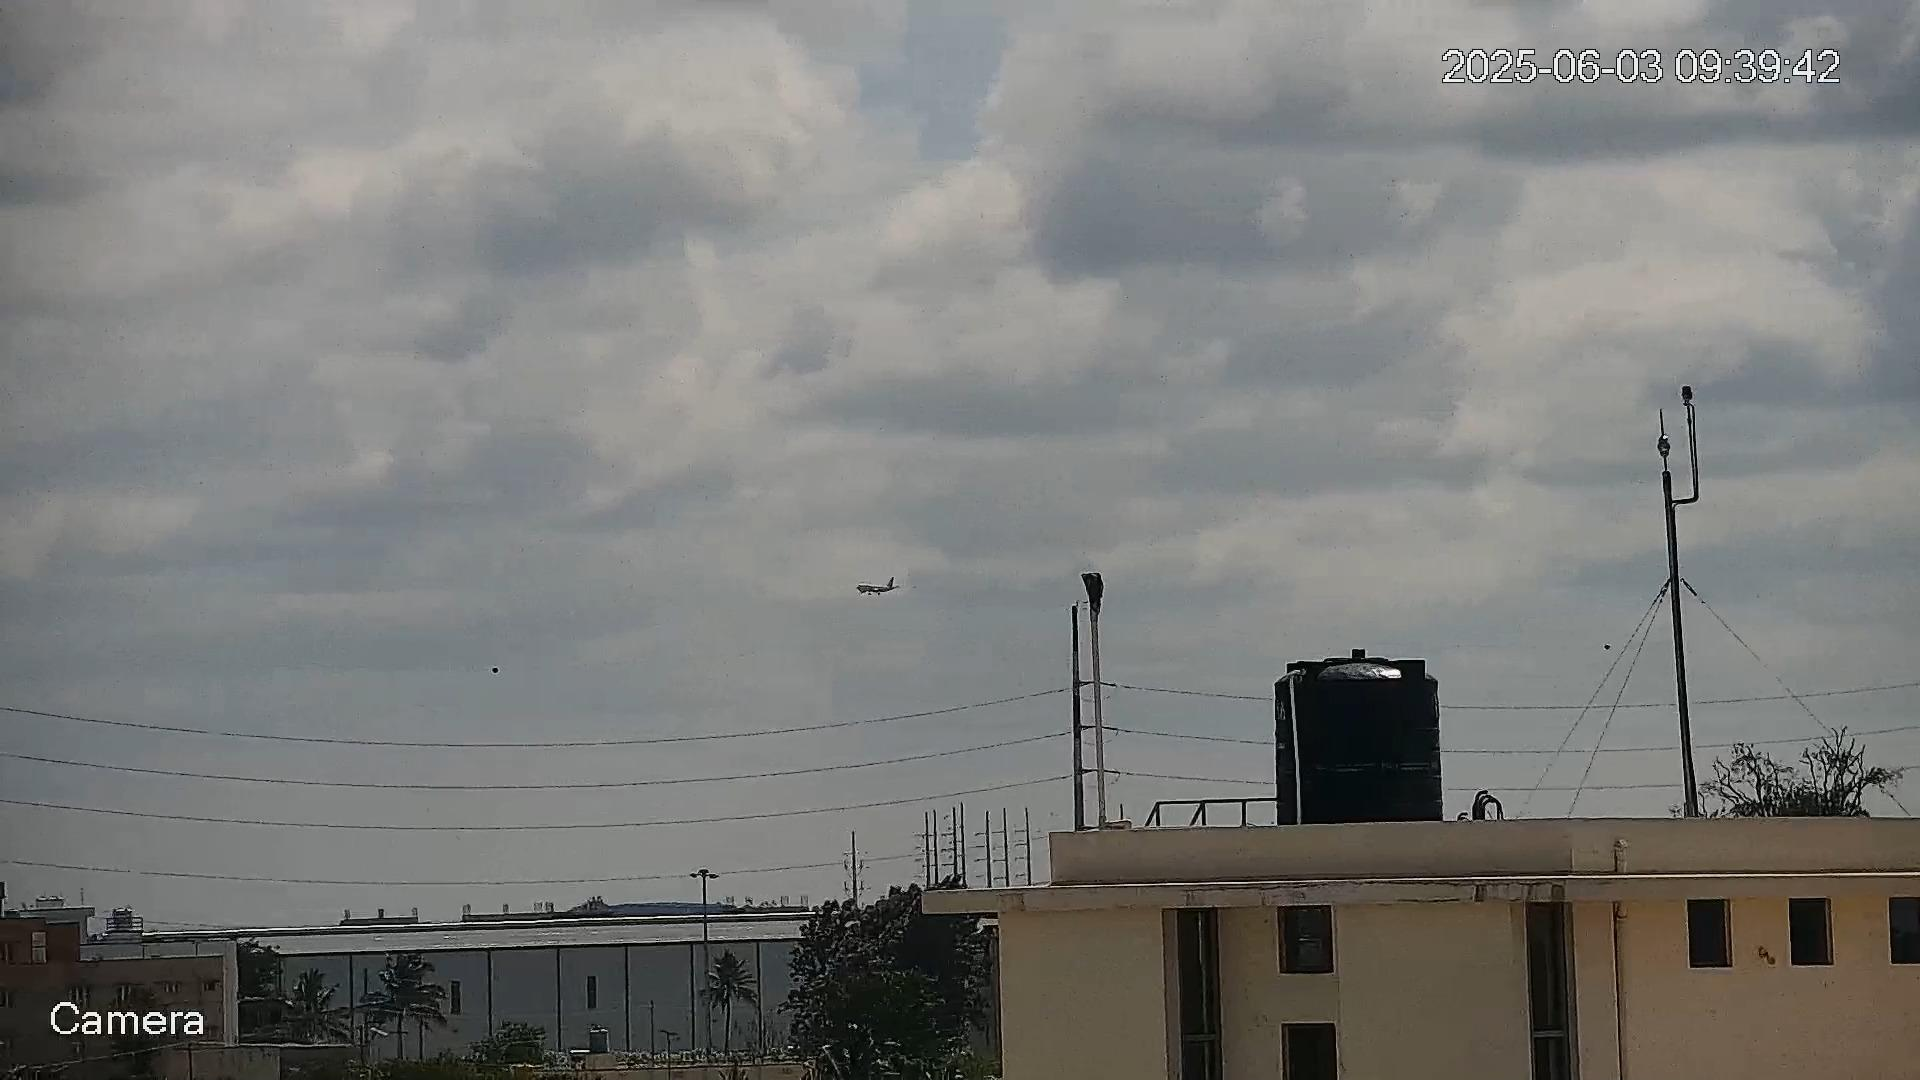Aircraft: (855, 576, 901, 596)
